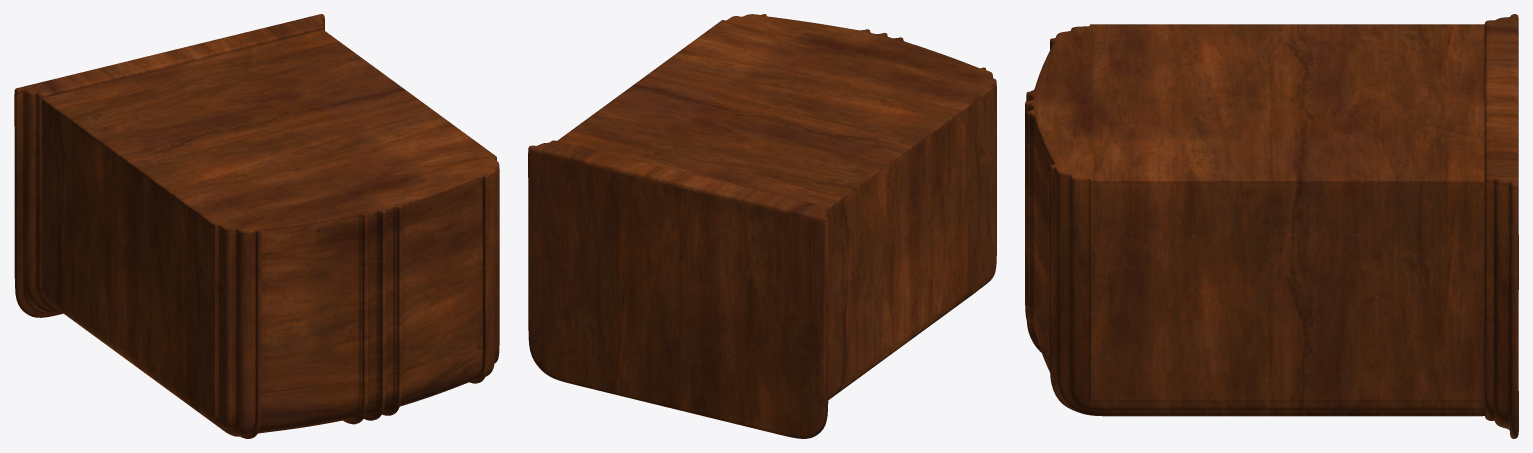
Rendered from radio.glb.
The picture shows the model from 3 angles, left to right: view 1: azimuth 30°, elevation 25°; view 2: azimuth 150°, elevation 25°; view 3: azimuth 270°, elevation 25°; orthographic projection. The views are drawn at different scales.
Visible parts, largest first — view 1: 20348_Receiver_radio_v1; view 2: 20348_Receiver_radio_v1; view 3: 20348_Receiver_radio_v1.
Part boxes in pixels (x1,y1,x2,y2): 20348_Receiver_radio_v1: (14, 14, 499, 438); 20348_Receiver_radio_v1: (528, 14, 996, 438); 20348_Receiver_radio_v1: (1025, 14, 1518, 438).
Size of the model in its own units: 59.44 by 45.22 by 72.25.
Materials: 1 (1 with a texture image).
